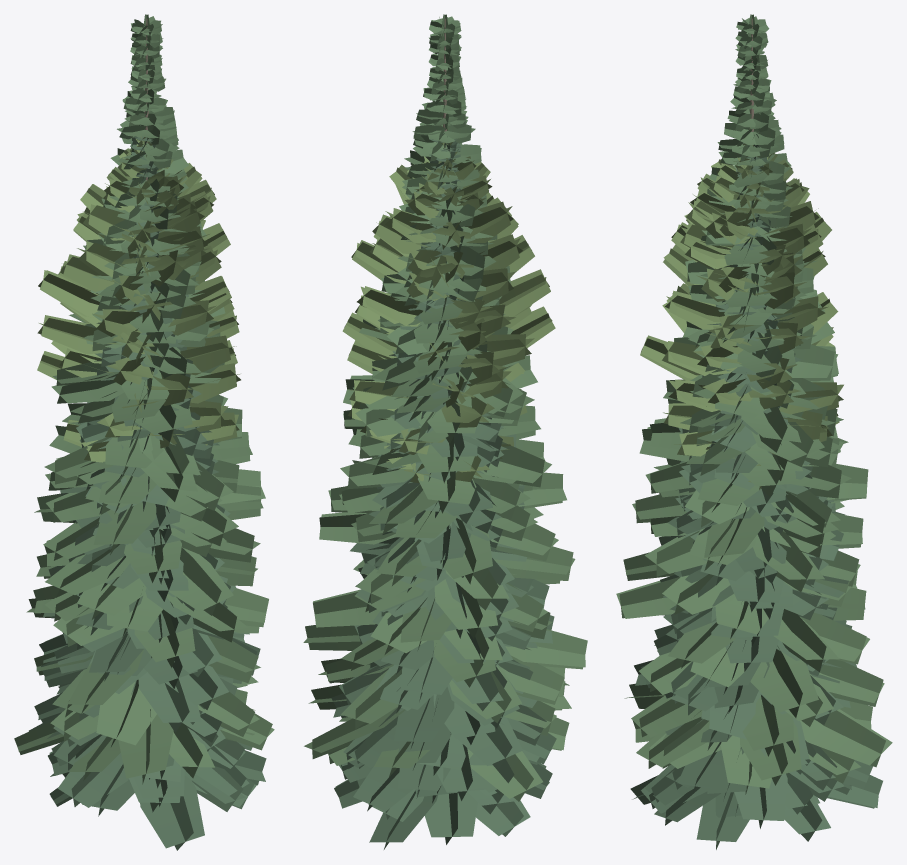
Rendered from trees.glb.
3 views of the same model, side by side, from view 1: azimuth 30°, elevation 25°; view 2: azimuth 150°, elevation 25°; view 3: azimuth 270°, elevation 25° (orthographic).
Parts seen in each view (by area): view 1: fir_lod0, spruce_lod0, pine_lod0; view 2: fir_lod0, spruce_lod0, pine_lod0; view 3: fir_lod0, spruce_lod0, pine_lod0.
Boxes of the visible parts, left/top/right/bottom form: fir_lod0: left=14, top=14, right=274, bottom=784; spruce_lod0: left=29, top=136, right=266, bottom=850; pine_lod0: left=37, top=125, right=240, bottom=471; fir_lod0: left=303, top=14, right=587, bottom=801; spruce_lod0: left=331, top=133, right=556, bottom=849; pine_lod0: left=342, top=125, right=555, bottom=489; fir_lod0: left=616, top=14, right=892, bottom=794; spruce_lod0: left=630, top=134, right=882, bottom=849; pine_lod0: left=640, top=127, right=843, bottom=489.
Size of what is drawn, in the model's own units: 6.78 by 22.19 by 6.94.
